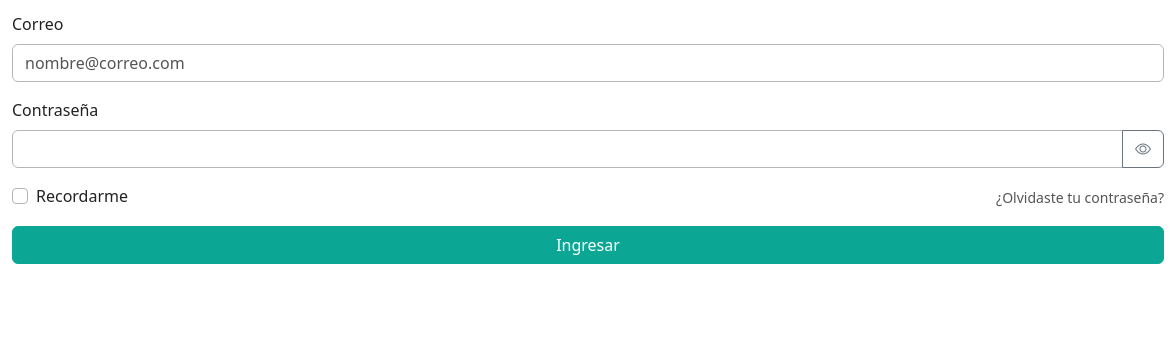
Test: LoginForm › permite escribir y al fallar el login muestra error (state + evento + mock)
Type "p@duoc.cl" into the field with placeholder "nombre@correo.com" at (588, 63), box [12,44,1164,82]
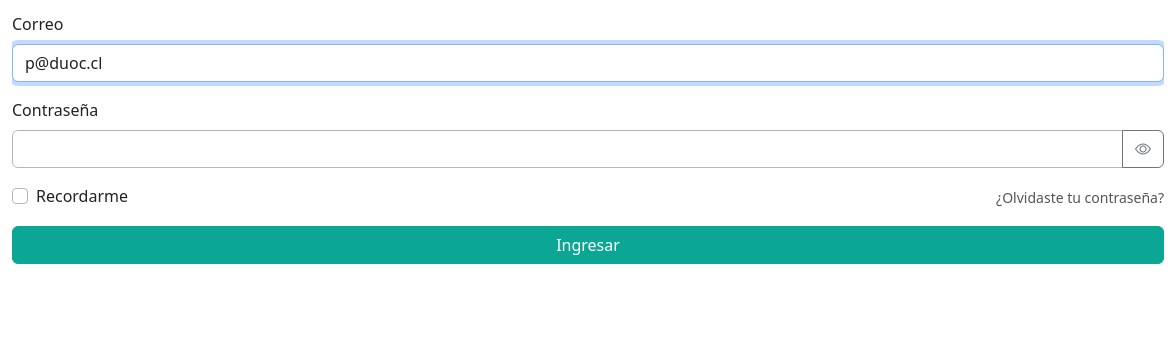
Type "mala" into the password field at (568, 149), box [12,130,1123,168]
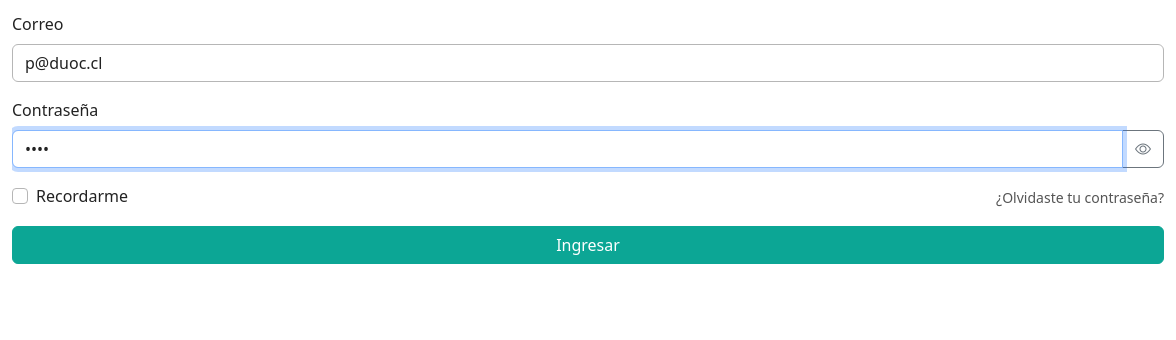
Click the button "Ingresar" at (588, 245), box [12,226,1164,264]
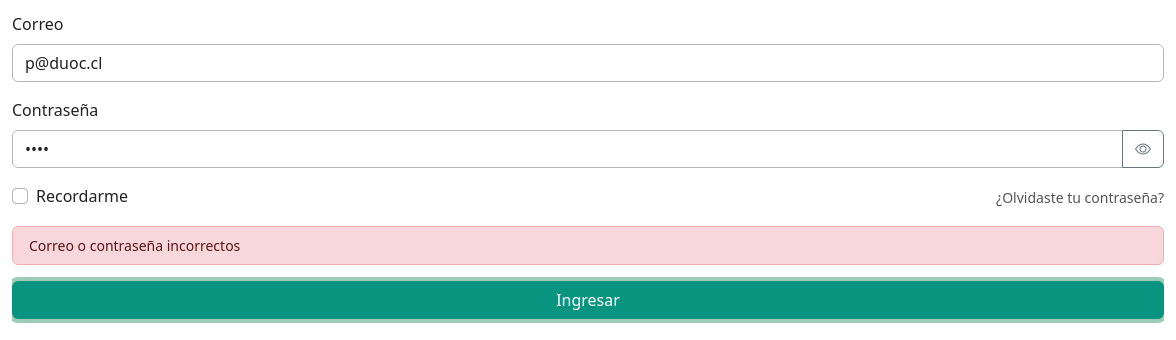
Expected: the text "Correo o contraseña incorrectos" is shown, [12,226,1164,265]
